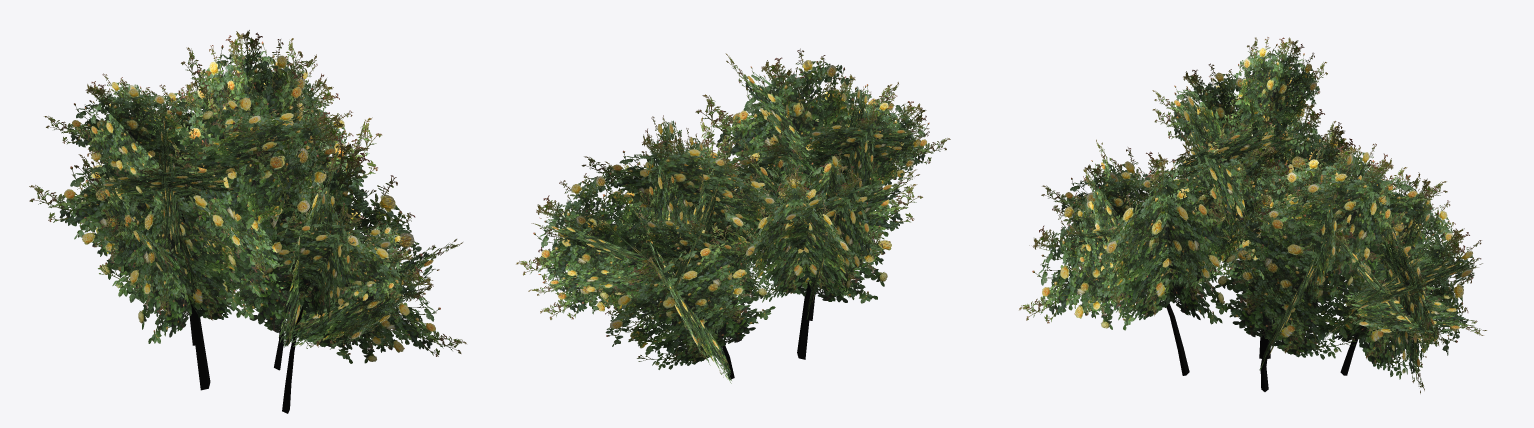
Rendered from roseb1 lod0.FBX.
The picture shows the model from 3 angles, left to right: view 1: azimuth 30°, elevation 25°; view 2: azimuth 150°, elevation 25°; view 3: azimuth 270°, elevation 25°; orthographic projection. The views are drawn at different scales.
Visible parts, largest first — view 1: Object001; view 2: Object001; view 3: Object001.
Boxes of the visible parts, left/top/right/bottom form: Object001: left=29, top=30, right=466, bottom=413; Object001: left=516, top=48, right=950, bottom=383; Object001: left=1019, top=37, right=1486, bottom=393.
Bounding box in the file's own units: 62267 × 56010 × 83414.
